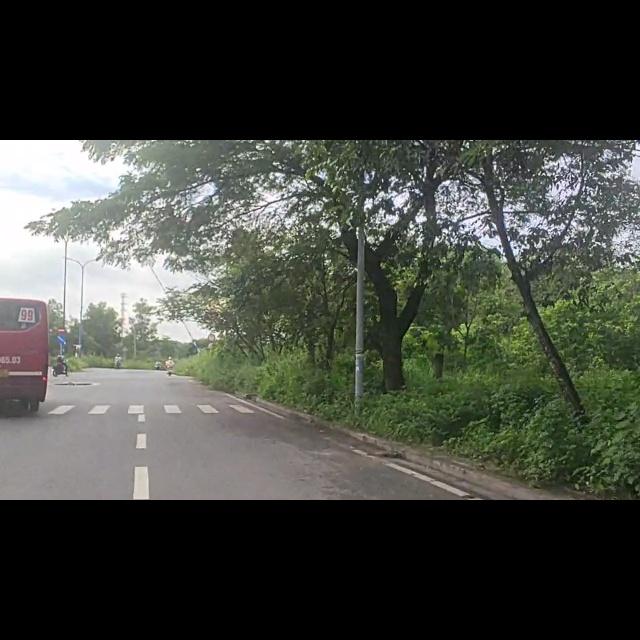bien_hieu_lenh: (54, 345, 67, 363), (57, 329, 66, 346)
